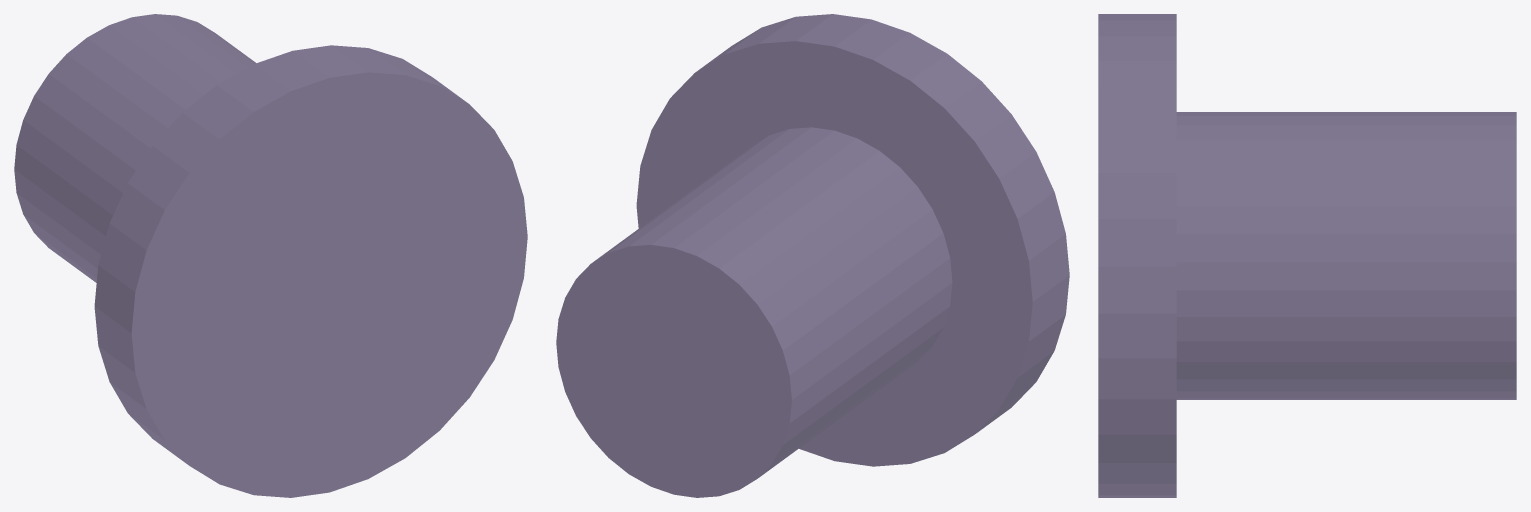
File: screw.glb
The picture shows the model from 3 angles, left to right: view 1: azimuth 30°, elevation 25°; view 2: azimuth 150°, elevation 25°; view 3: azimuth 270°, elevation 25°; orthographic projection. The views are drawn at different scales.
Parts seen in each view (by area): view 1: Screw; view 2: Screw; view 3: Screw.
Boxes of the visible parts, x1=… form: Screw: x1=14, y1=14, x2=527, y2=497; Screw: x1=556, y1=14, x2=1069, y2=497; Screw: x1=1098, y1=14, x2=1516, y2=497.
Bounding box in the file's own units: 0.0375 × 0.0375 × 0.0324.
Materials: 1 (1 with a texture image).
